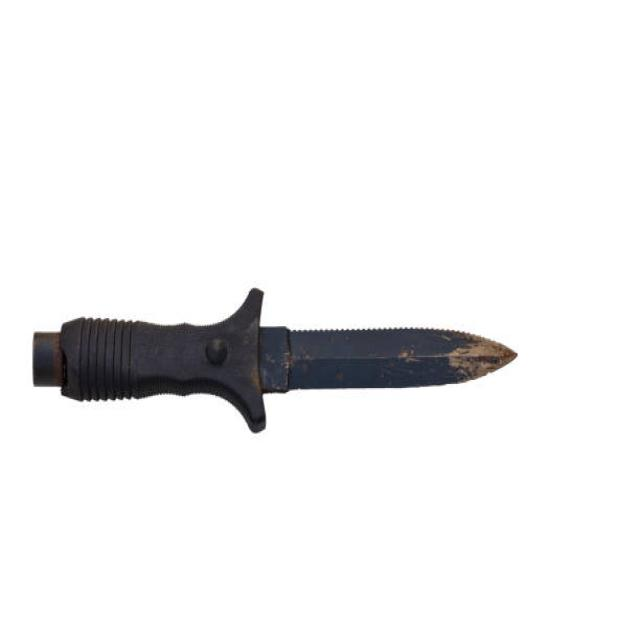knife: (25, 279, 520, 438)
